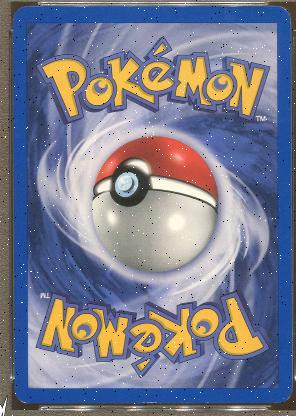Card: (12, 5, 292, 405)
Corner Wear: (267, 388, 291, 404), (279, 5, 290, 23), (17, 396, 30, 404)
Edge Wear: (289, 244, 291, 249), (290, 292, 291, 296)
